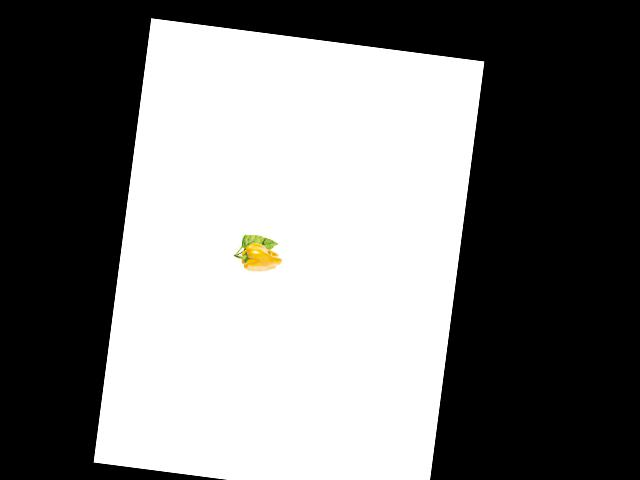bell_pepper: (231, 239, 285, 277)
